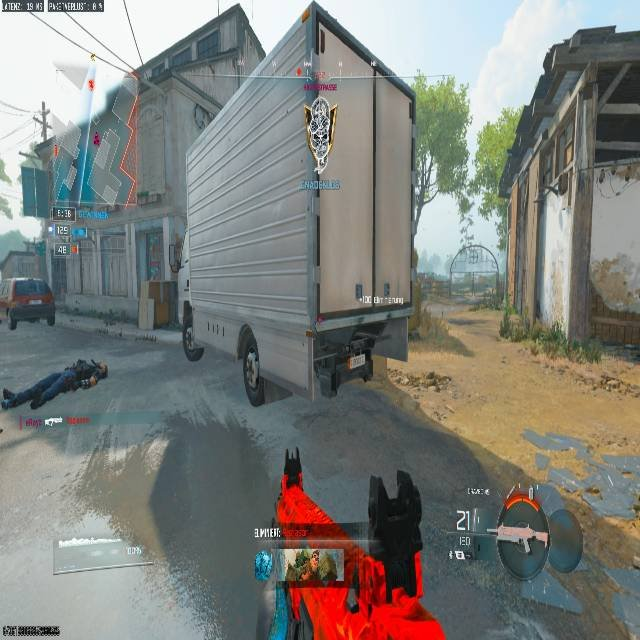head: (96, 361, 108, 376)
player: (384, 280, 390, 297)
